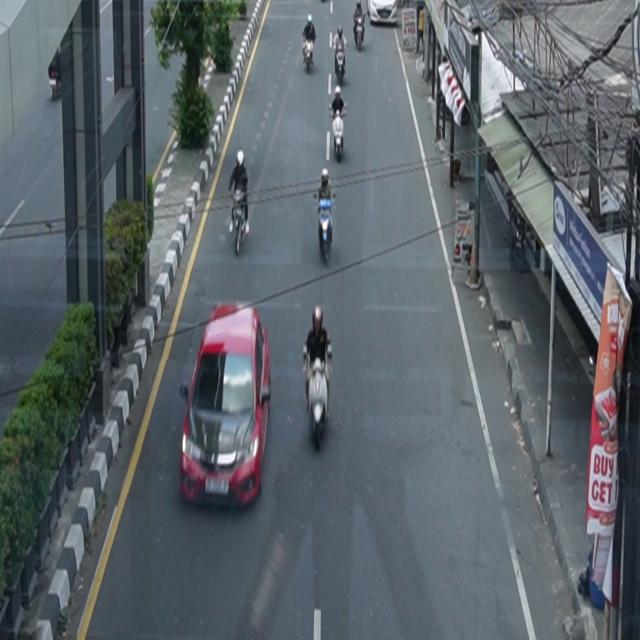car: (180, 303, 272, 510)
